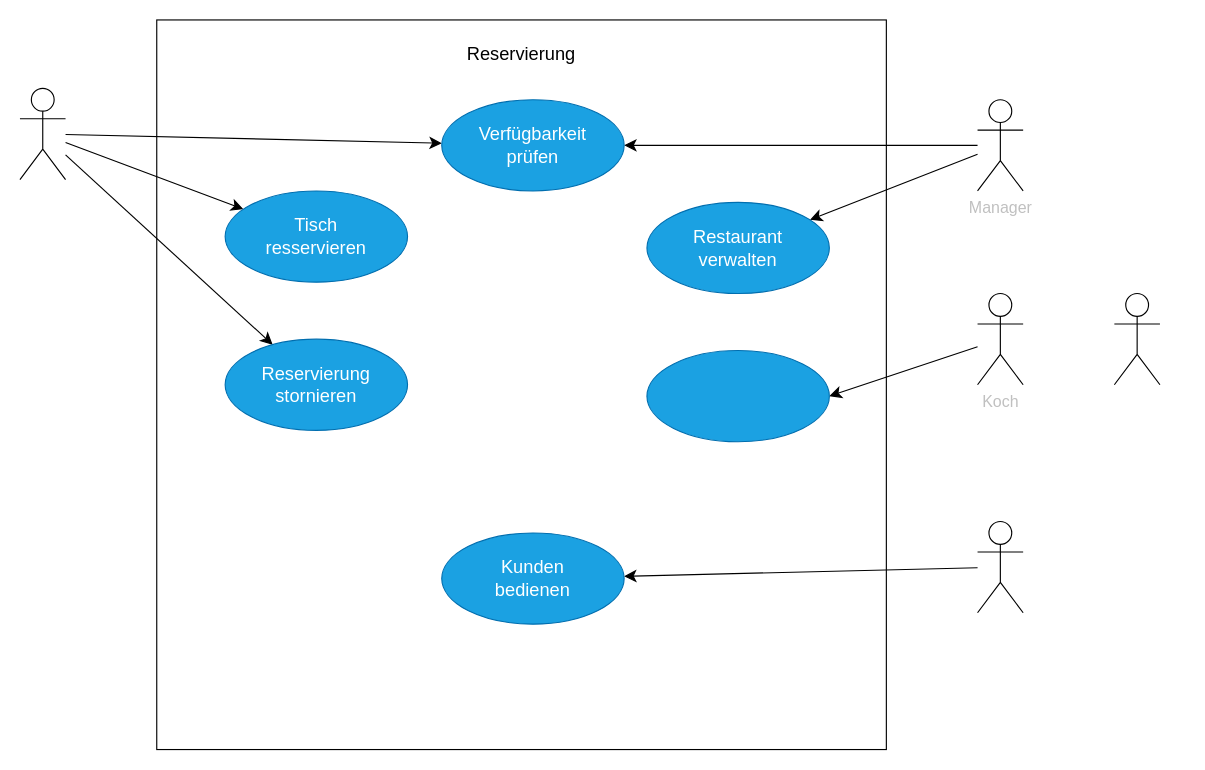
Some shapes in this 1205 by 770 pixel diagram are drawn without their labels. The box of each missing label's shape, as (x1, y1, x2, y2) in pixels:
Kunde: (19, 87, 66, 180)
Mahlzeit zubereiten: (646, 349, 829, 442)
Mitarbeitende: (1113, 292, 1160, 385)
Service: (976, 520, 1023, 613)
